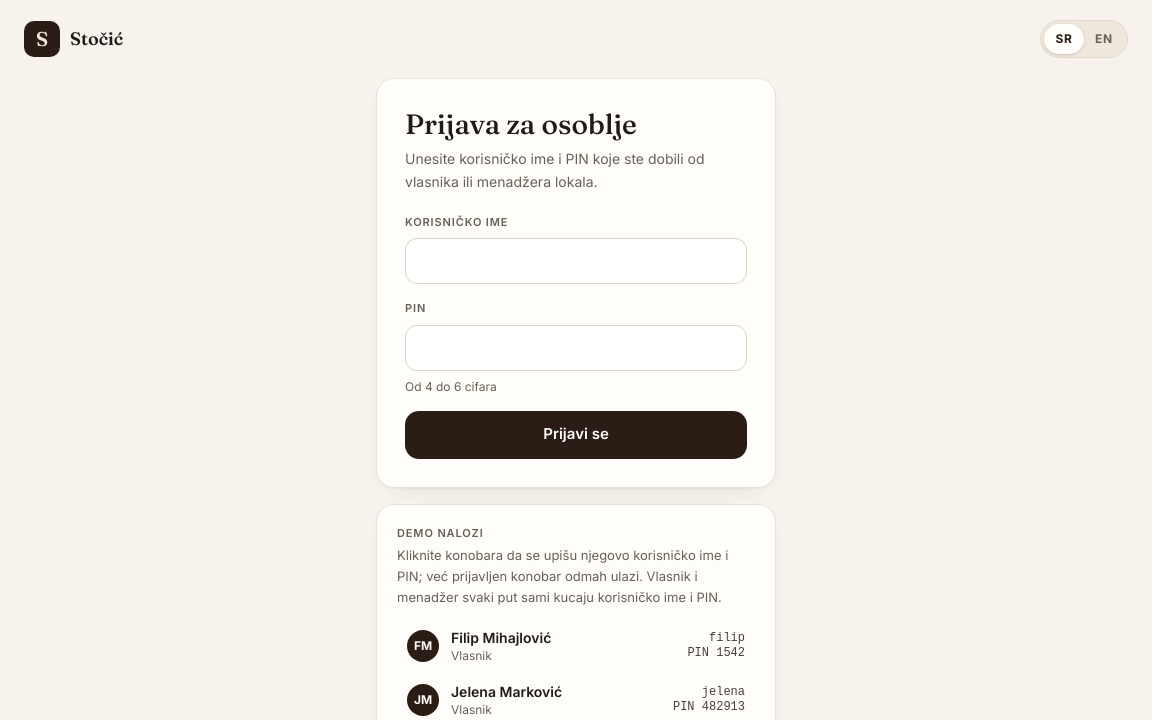
Scenario: staff › a waiter sent from /admin lands on the waiter dashboard instead
Type "marko" into the field labelled "Korisničko ime". click: x=576, y=261
box: [405,238,747,284]
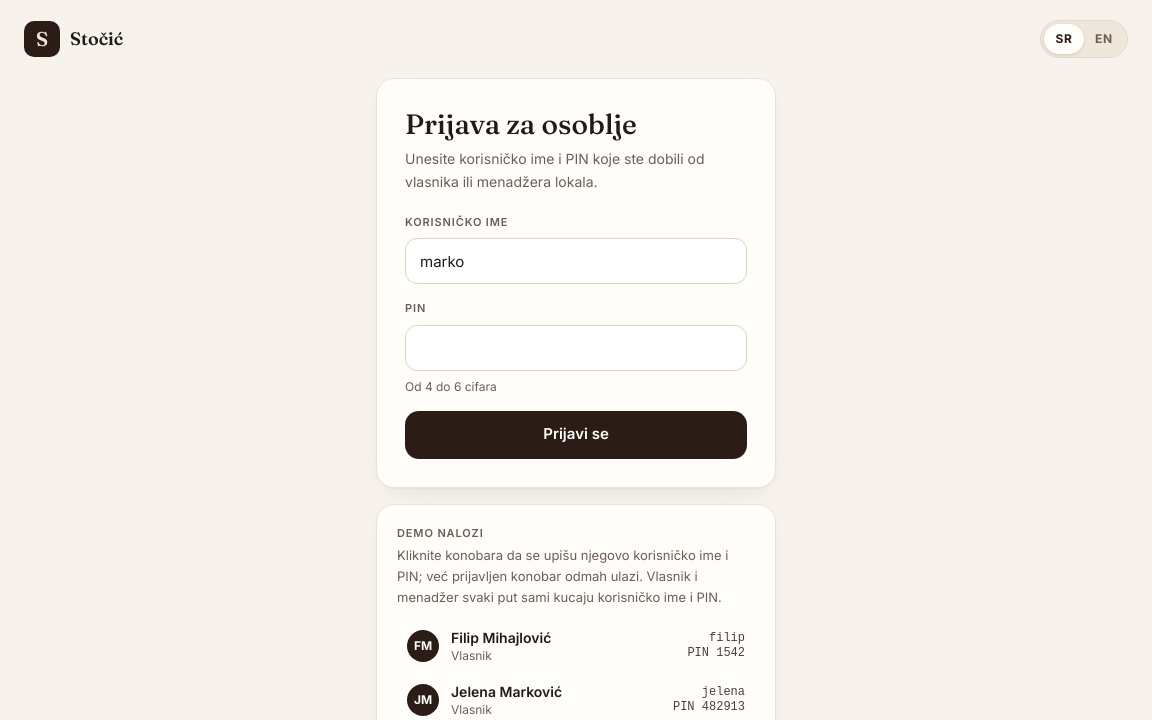
Type "752846" into the password field labelled "PIN". click: x=576, y=348
box: [405,324,747,370]
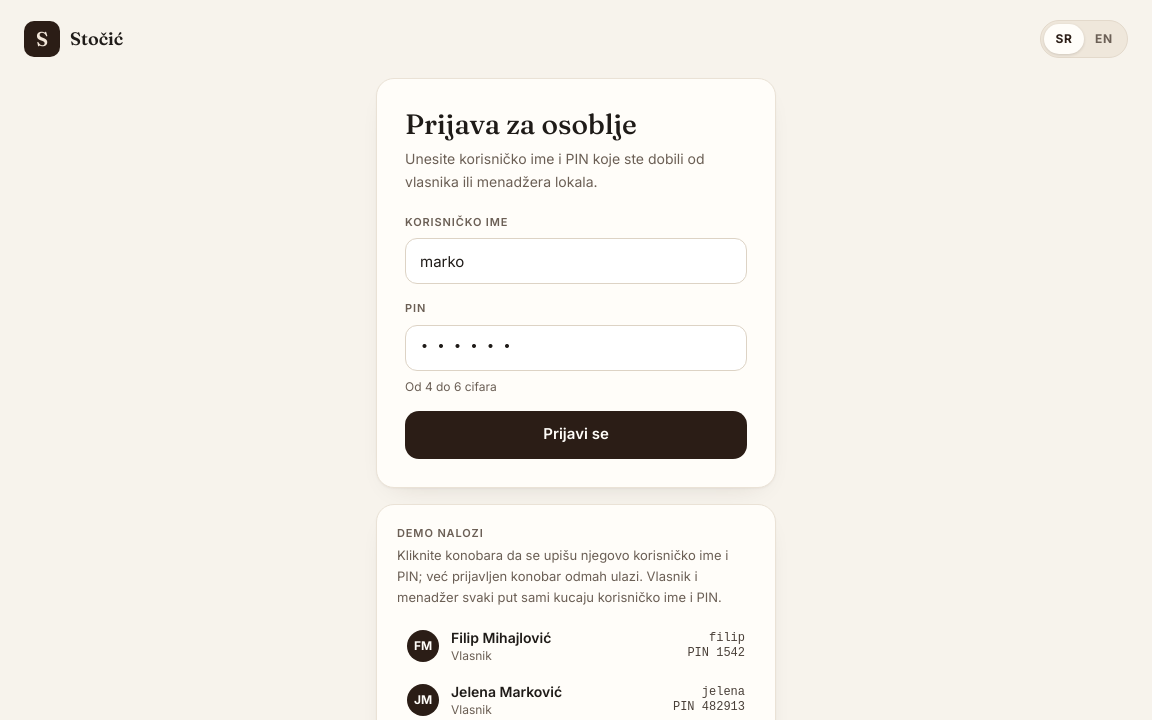
Click the button "Prijavi se". click: x=576, y=434
box: [405,410,747,458]
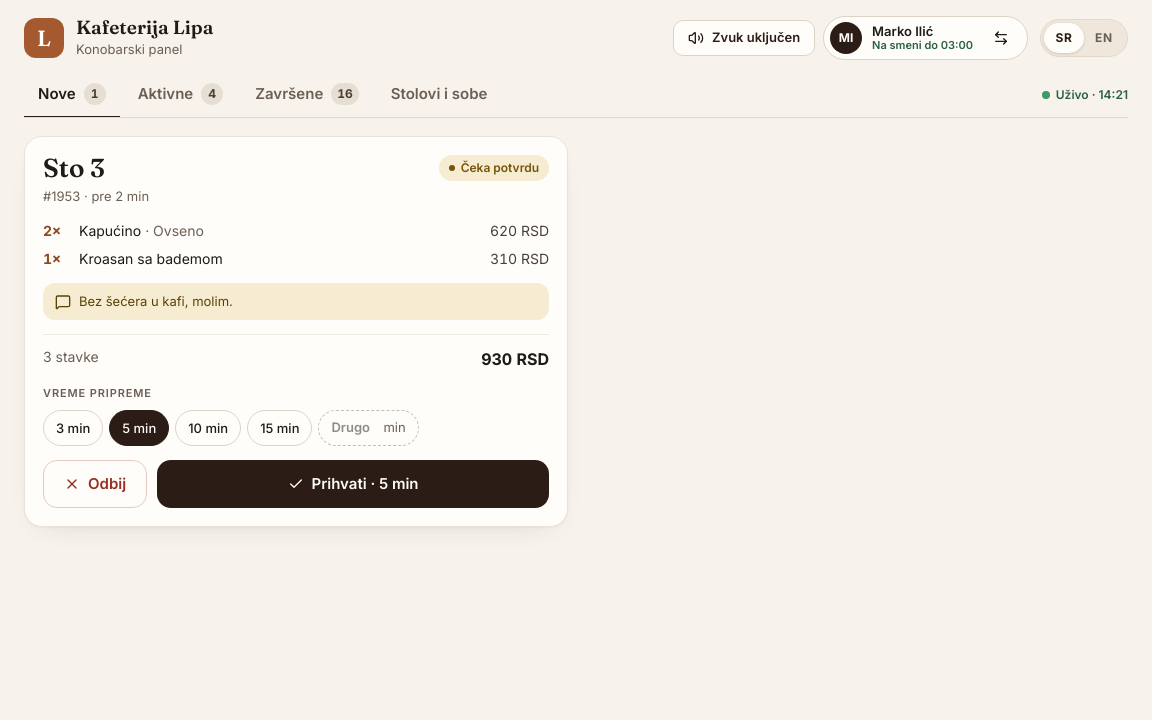
Expected: the heading "Sto 3" is shown, [43,152,105,184]
